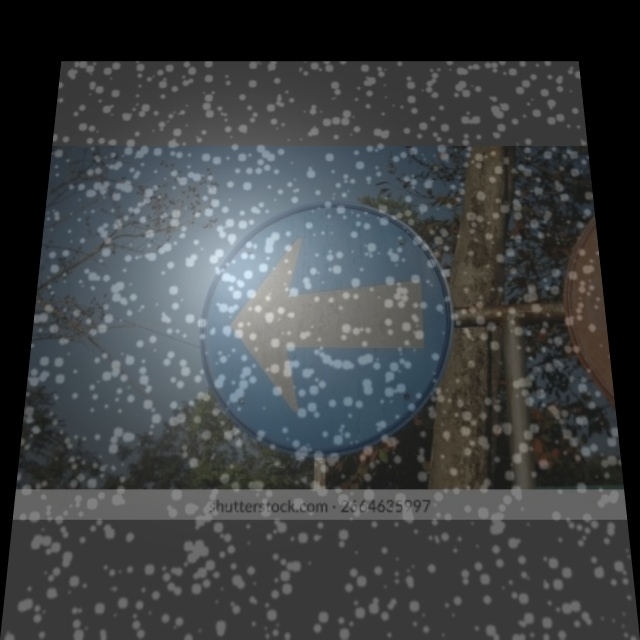Compulsory_Turn_Left: (201, 207, 460, 451)
